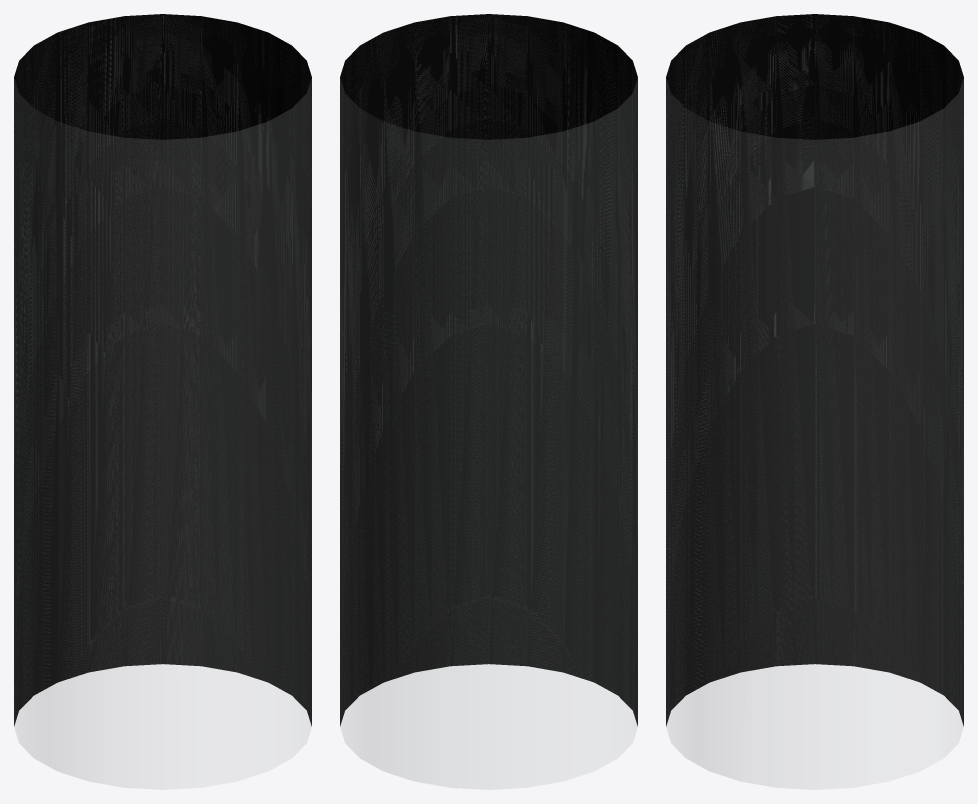
File: original-22.obj
3 renders of one model, left to right at view 1: azimuth 30°, elevation 25°; view 2: azimuth 150°, elevation 25°; view 3: azimuth 270°, elevation 25°, orthographic.
Parts seen in each view (by area): view 1: #ID126; view 2: #ID126; view 3: #ID126.
Boxes of the visible parts, left/top/right/bottom form: #ID126: left=14, top=14, right=311, bottom=789; #ID126: left=340, top=14, right=637, bottom=789; #ID126: left=666, top=14, right=963, bottom=789.
Size of the model in its own units: 0.3799 by 0.9149 by 0.3799.
2 materials, 1 textured.
